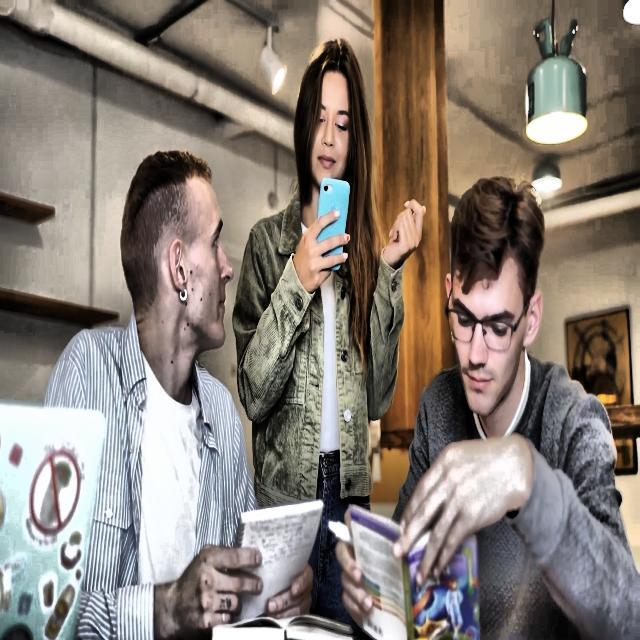Phone: (314, 173, 352, 272)
